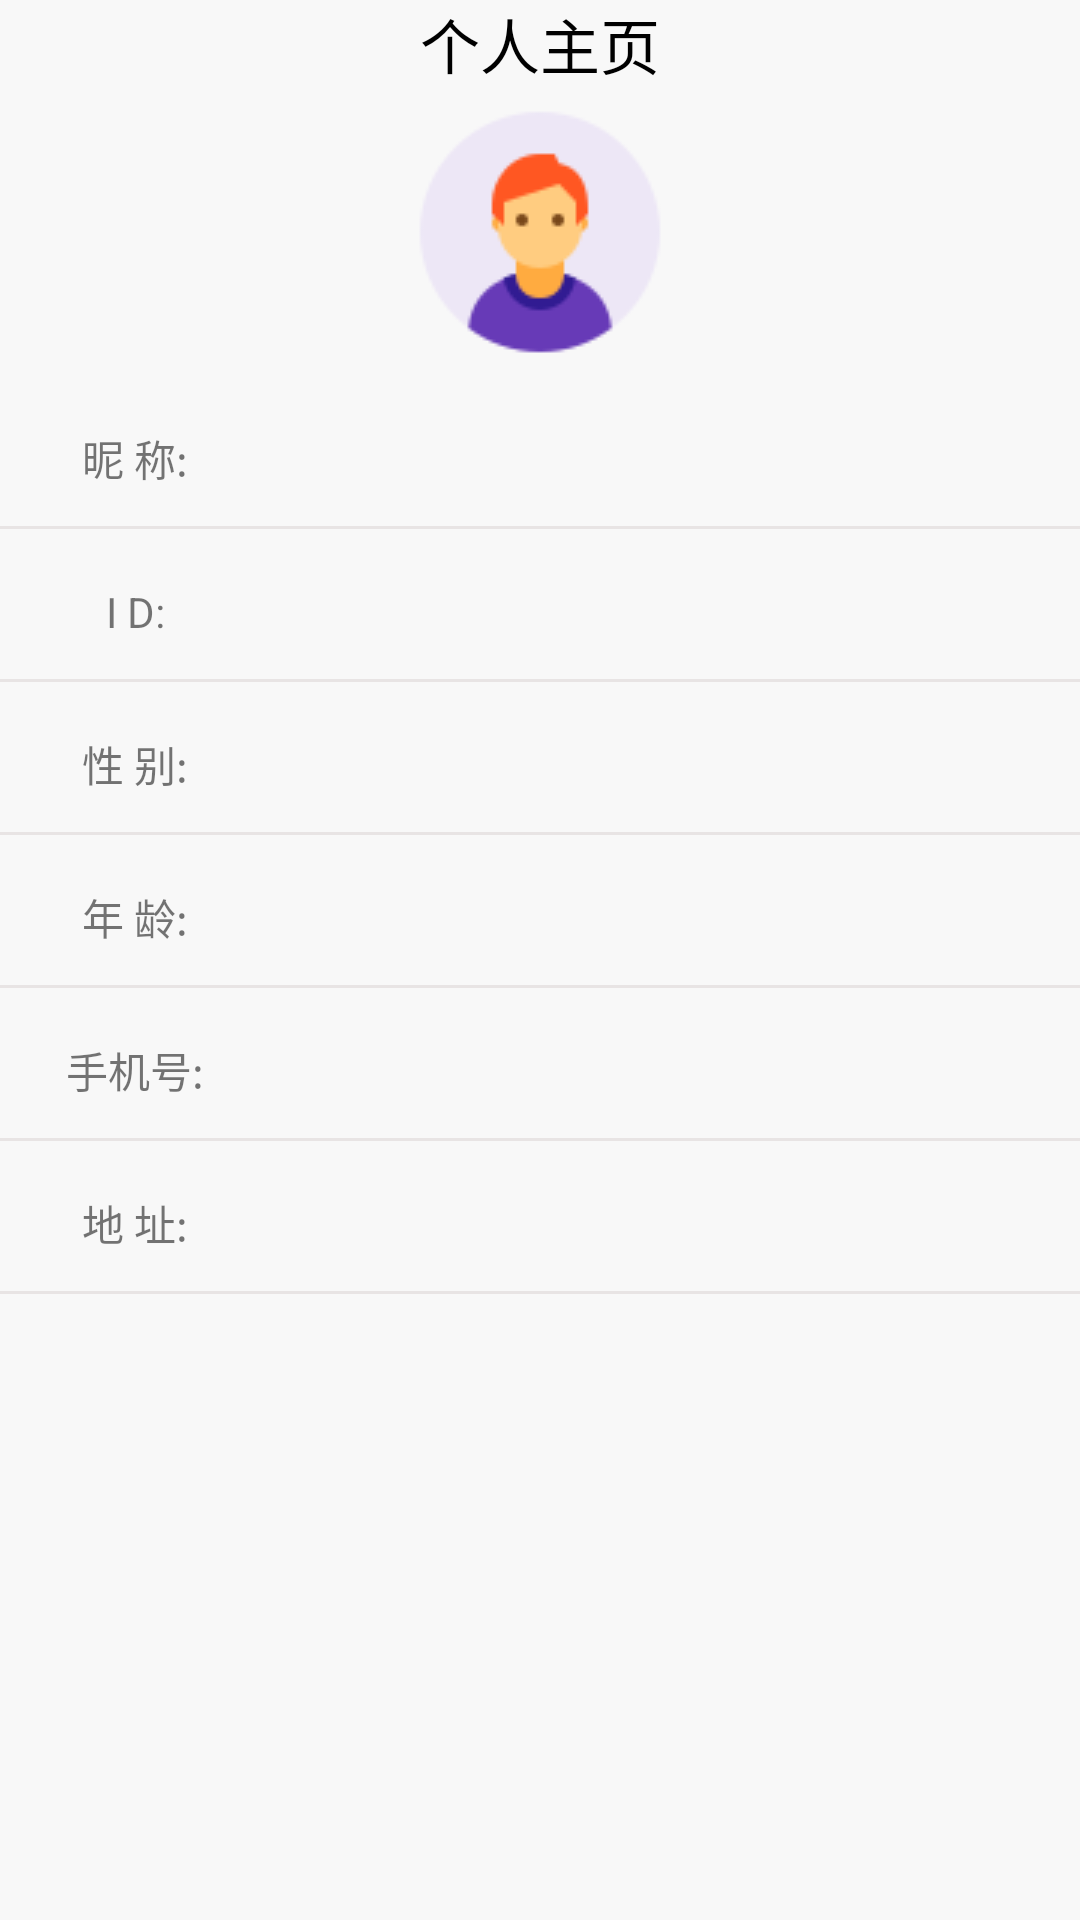

Icon click points for this 1080 x 1920 phone screenshot, format [x,y]:
person: [540,253]
